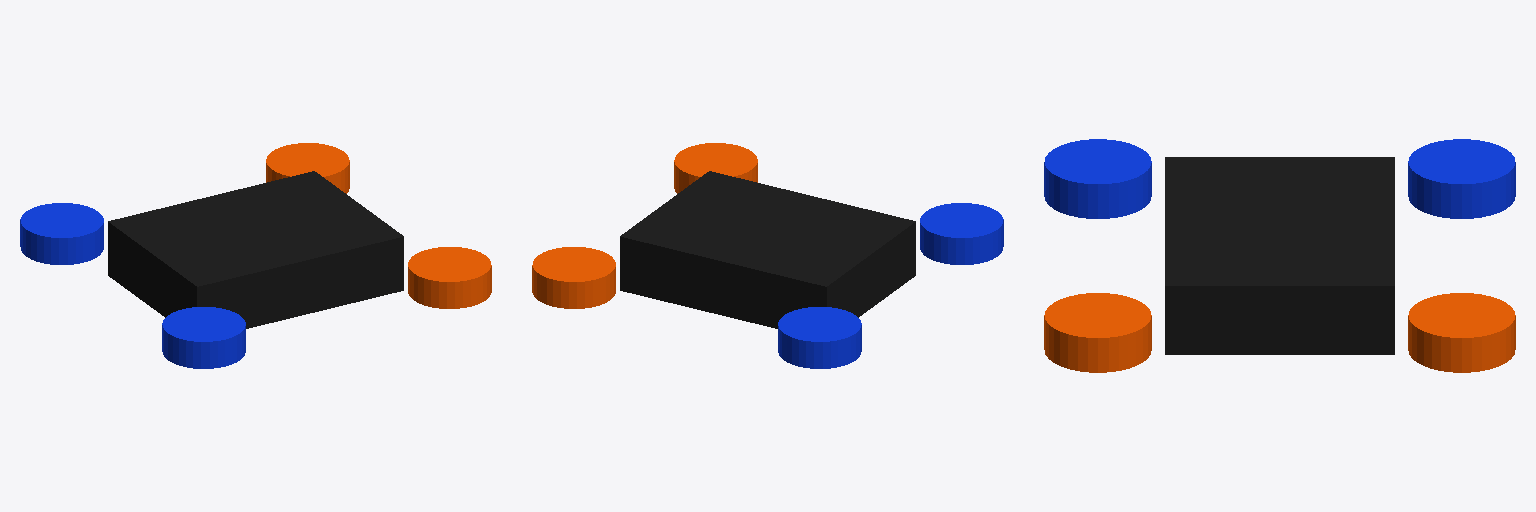
URDF robot description (monorace_quadrotor):
<?xml version="1.0" encoding="UTF-8"?>
<robot name="monorace_quadrotor">
  <link name="base_link">
    <visual>
      <origin xyz="0 0 0"/>
      <geometry>
        <box size="0.16 0.12 0.04"/>
      </geometry>
      <material name="Carbon">
        <color rgba="0.15 0.15 0.15 1.0"/>
      </material>
    </visual>
    <collision>
      <origin xyz="0 0 0"/>
      <geometry>
        <box size="0.14 0.14 0.06"/>
      </geometry>
    </collision>
    <inertial>
      <mass value="0.886"/>
      <inertia ixx="0.0050" ixy="0.0" ixz="0.0" iyy="0.0060" iyz="0.0" izz="0.0090"/>
    </inertial>
  </link>

  <link name="front_left_prop">
    <visual>
      <origin xyz="0 0 0"/>
      <geometry>
        <cylinder radius="0.028" length="0.02"/>
      </geometry>
      <material name="Orange">
        <color rgba="1.0 0.42 0.04 1.0"/>
      </material>
    </visual>
    <inertial>
      <mass value="0.02"/>
      <inertia ixx="0.00001" ixy="0.0" ixz="0.0" iyy="0.00001" iyz="0.0" izz="0.00001"/>
    </inertial>
  </link>

  <link name="front_right_prop">
    <visual>
      <origin xyz="0 0 0"/>
      <geometry>
        <cylinder radius="0.028" length="0.02"/>
      </geometry>
      <material name="Orange">
        <color rgba="1.0 0.42 0.04 1.0"/>
      </material>
    </visual>
    <inertial>
      <mass value="0.02"/>
      <inertia ixx="0.00001" ixy="0.0" ixz="0.0" iyy="0.00001" iyz="0.0" izz="0.00001"/>
    </inertial>
  </link>

  <link name="back_left_prop">
    <visual>
      <origin xyz="0 0 0"/>
      <geometry>
        <cylinder radius="0.028" length="0.02"/>
      </geometry>
      <material name="Blue">
        <color rgba="0.10 0.30 0.95 1.0"/>
      </material>
    </visual>
    <inertial>
      <mass value="0.02"/>
      <inertia ixx="0.00001" ixy="0.0" ixz="0.0" iyy="0.00001" iyz="0.0" izz="0.00001"/>
    </inertial>
  </link>

  <link name="back_right_prop">
    <visual>
      <origin xyz="0 0 0"/>
      <geometry>
        <cylinder radius="0.028" length="0.02"/>
      </geometry>
      <material name="Blue">
        <color rgba="0.10 0.30 0.95 1.0"/>
      </material>
    </visual>
    <inertial>
      <mass value="0.02"/>
      <inertia ixx="0.00001" ixy="0.0" ixz="0.0" iyy="0.00001" iyz="0.0" izz="0.00001"/>
    </inertial>
  </link>

  <joint name="base_to_front_left_prop" type="fixed" dont_collapse="true">
    <parent link="base_link"/>
    <child link="front_left_prop"/>
    <origin xyz="0.095 0.095 0" rpy="0 0 0"/>
  </joint>

  <joint name="base_to_front_right_prop" type="fixed" dont_collapse="true">
    <parent link="base_link"/>
    <child link="front_right_prop"/>
    <origin xyz="0.095 -0.095 0" rpy="0 0 0"/>
  </joint>

  <joint name="base_to_back_left_prop" type="fixed" dont_collapse="true">
    <parent link="base_link"/>
    <child link="back_left_prop"/>
    <origin xyz="-0.095 0.095 0" rpy="0 0 0"/>
  </joint>

  <joint name="base_to_back_right_prop" type="fixed" dont_collapse="true">
    <parent link="base_link"/>
    <child link="back_right_prop"/>
    <origin xyz="-0.095 -0.095 0" rpy="0 0 0"/>
  </joint>
</robot>

--- What the picture shows (computed from the rendered views, not written in the file) ---
The picture shows the robot from 3 angles, left to right: view 1: azimuth 30°, elevation 25°; view 2: azimuth 150°, elevation 25°; view 3: azimuth 270°, elevation 25°; orthographic projection.
Robot: monorace_quadrotor — 5 links, 4 joints (4 fixed); root link base_link; default pose: all joints at 0.
Visible links, largest first — view 1: base_link, front_right_prop, back_left_prop, back_right_prop, front_left_prop; view 2: base_link, front_left_prop, back_right_prop, back_left_prop, front_right_prop; view 3: base_link, front_left_prop, front_right_prop, back_left_prop, back_right_prop.
Boxes of the visible links, x1,y1,x2,y2 form: base_link: [108, 171, 403, 328]; front_right_prop: [408, 247, 491, 308]; back_left_prop: [20, 203, 103, 264]; back_right_prop: [162, 307, 245, 368]; front_left_prop: [266, 143, 349, 193]; base_link: [620, 171, 915, 328]; front_left_prop: [532, 247, 615, 308]; back_right_prop: [920, 203, 1003, 264]; back_left_prop: [778, 307, 861, 368]; front_right_prop: [674, 143, 757, 193]; base_link: [1165, 157, 1394, 354]; front_left_prop: [1408, 293, 1515, 372]; front_right_prop: [1044, 293, 1151, 372]; back_left_prop: [1408, 139, 1515, 218]; back_right_prop: [1044, 139, 1151, 218].
Bounding box of the posed robot: 0.246 × 0.246 × 0.04 m (x, y, z).
Geometry: primitives only (box / cylinder / sphere), no mesh files.
